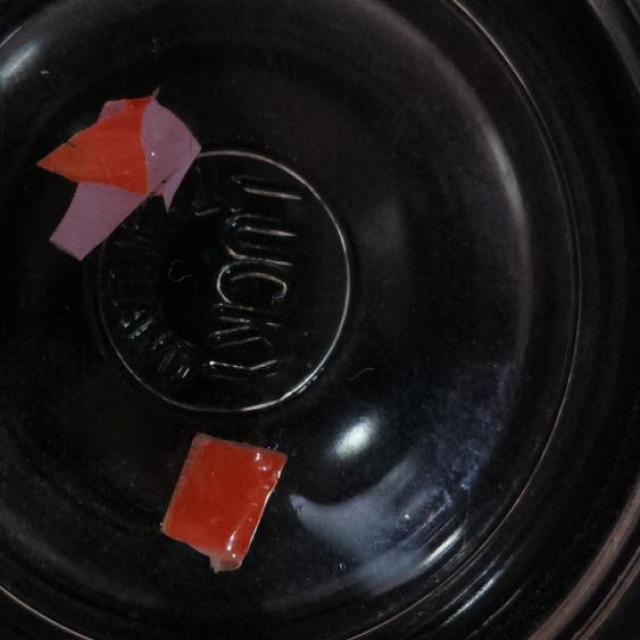fiber: (32, 93, 204, 265), (156, 428, 289, 575)
